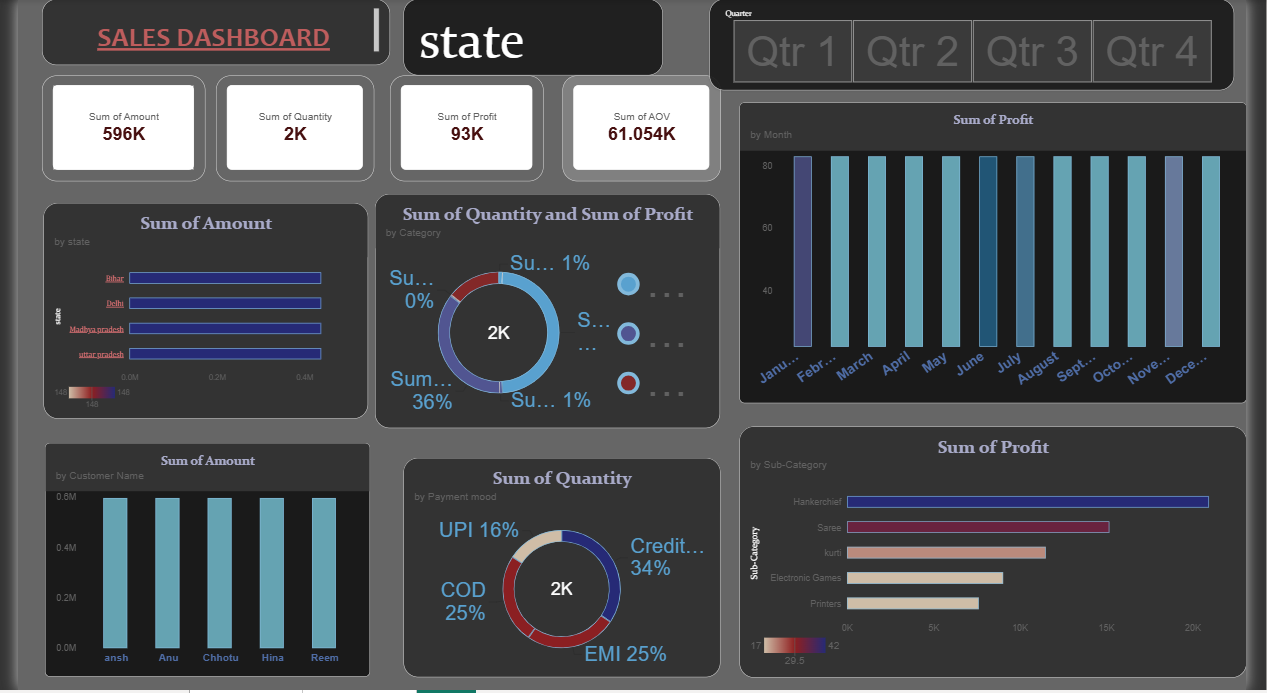

The page's visual inventory and layout, read from the dashboard file:
{"tool":"powerbi","page":{"name":"Page 1","canvas":[1920,1080],"ordinal":0},"visuals":[{"type":"textbox","box":[37.5,0,543.9,103.2],"z":0},{"type":"columnChart","fields":{"Category":["Orders.Order Date.Variation.Date Hierarchy.Month"],"Y":["Sum(Details.Profit)"]},"box":[1127.5,162.5,792.5,470],"z":1000},{"type":"barChart","fields":{"Category":["Details.Sub-Category"],"Y":["Sum(Details.Profit)"]},"box":[1127.7,668.2,792.5,392.5],"z":2000},{"type":"donutChart","fields":{"Category":["Details.Category"],"Y":["Sum(Details.Quantity)","Sum(Details.Profit)"]},"box":[558,304.8,539.2,365.7],"z":2001},{"type":"donutChart","fields":{"Category":["Details.Payment mood"],"Y":["Sum(Details.Quantity)"]},"box":[602.5,717.5,495,342.5],"z":2002},{"type":"cardVisual","fields":{"Data":["Sum(Details.Amount)"]},"box":[37.5,120,255,165],"z":2003},{"type":"cardVisual","fields":{"Data":["Sum(Details.Quantity)"]},"box":[310,120,247.5,165],"z":2004},{"type":"cardVisual","fields":{"Data":["Sum(Details.Profit)"]},"box":[582.5,120,240,165],"z":2005},{"type":"cardVisual","fields":{"Data":["Sum(Details.AOV)"]},"box":[850,120,247.5,165],"z":2006},{"type":"barChart","fields":{"Category":["Orders.state"],"Y":["Sum(Details.Amount)"]},"box":[40,320,507.5,337.5],"z":2007},{"type":"columnChart","fields":{"Category":["Orders.Customer Name "],"Y":["Sum(Details.Amount)"]},"box":[42.5,695,508,365],"z":2008},{"type":"slicer","fields":{"Values":["Orders.Order Date.Variation.Date Hierarchy.Quarter"]},"box":[1080.8,0,820,142.5],"z":2009},{"type":"slicer","fields":{"Values":["Orders.state"]},"box":[602.5,0,405.6,119.6],"z":2010}]}

Visuals, with their boxes in screenshot pixels (x1, y1, x2, y2), scaled from the page's 1920x1080 canvas onto the 1267x693 screenshot:
textbox: [x1=25, y1=0, x2=384, y2=66]
columnChart - Orders.Order Date.Variation.Date Hierarchy.Month x Sum(Details.Profit): [x1=744, y1=104, x2=1266, y2=406]
barChart - Details.Sub-Category x Sum(Details.Profit): [x1=744, y1=429, x2=1266, y2=681]
donutChart - Details.Category x Sum(Details.Quantity): [x1=368, y1=196, x2=724, y2=430]
donutChart - Details.Payment mood x Sum(Details.Quantity): [x1=398, y1=460, x2=724, y2=680]
cardVisual - Sum(Details.Amount): [x1=25, y1=77, x2=193, y2=183]
cardVisual - Sum(Details.Quantity): [x1=205, y1=77, x2=368, y2=183]
cardVisual - Sum(Details.Profit): [x1=384, y1=77, x2=543, y2=183]
cardVisual - Sum(Details.AOV): [x1=561, y1=77, x2=724, y2=183]
barChart - Orders.state x Sum(Details.Amount): [x1=26, y1=205, x2=361, y2=422]
columnChart - Orders.Customer Name  x Sum(Details.Amount): [x1=28, y1=446, x2=363, y2=680]
slicer - Orders.Order Date.Variation.Date Hierarchy.Quarter: [x1=713, y1=0, x2=1254, y2=91]
slicer - Orders.state: [x1=398, y1=0, x2=665, y2=77]
